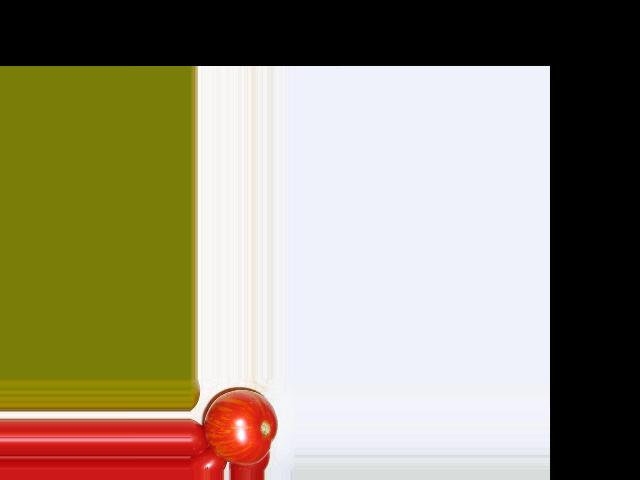tomato: (203, 389, 278, 465)
